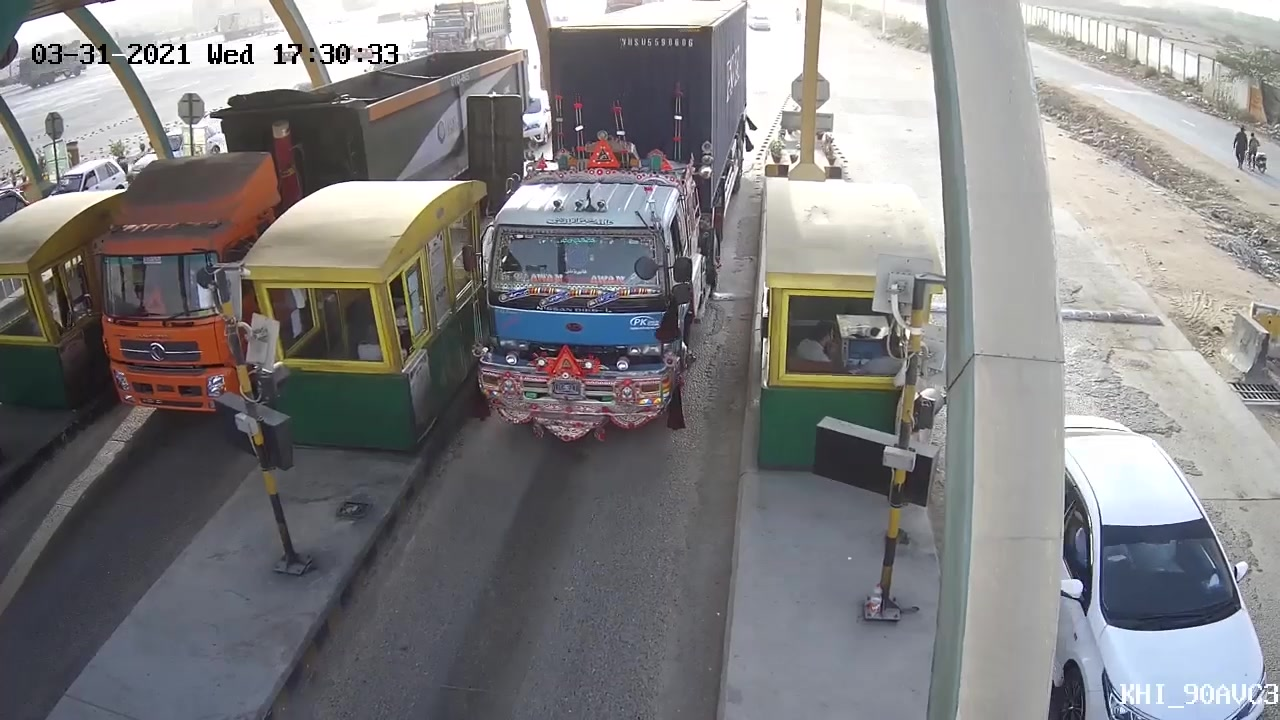F6: (472, 1, 757, 439)
